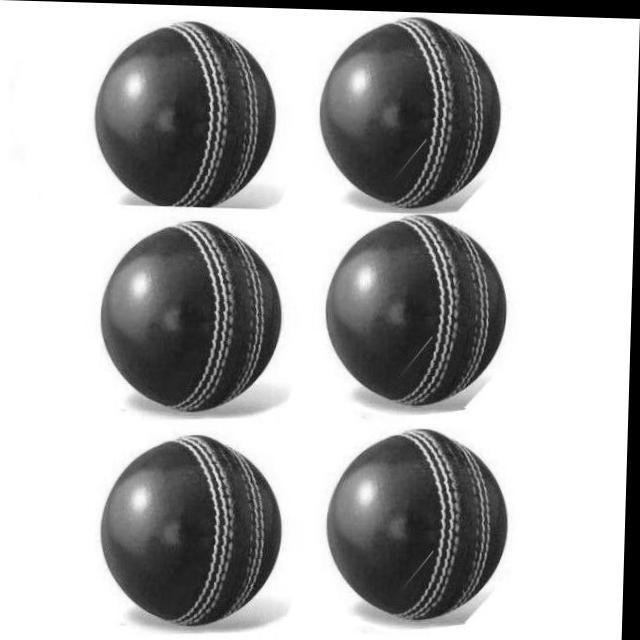cricket ball: (104, 434, 287, 627), (320, 14, 502, 207), (330, 426, 512, 618), (328, 212, 510, 404), (104, 219, 285, 411), (96, 20, 277, 208)
